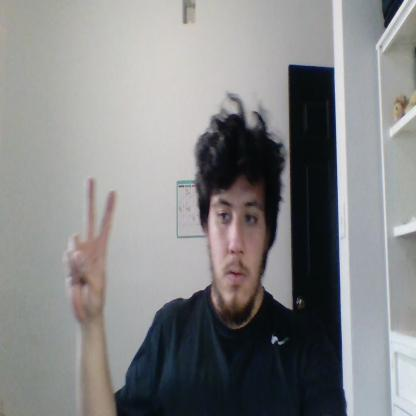V: (63, 177, 117, 323)
